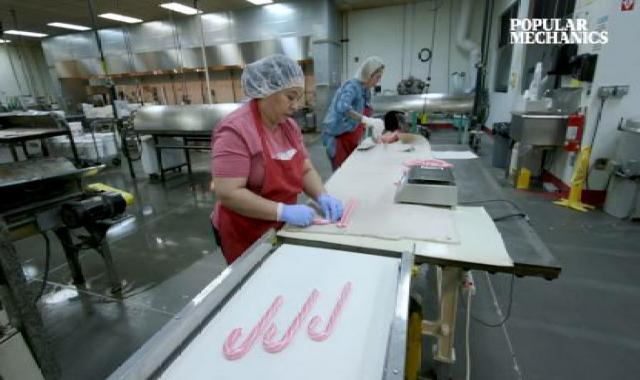hairnet: (239, 53, 311, 99), (350, 58, 393, 90)
